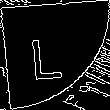L_N: (37, 28, 73, 82)
